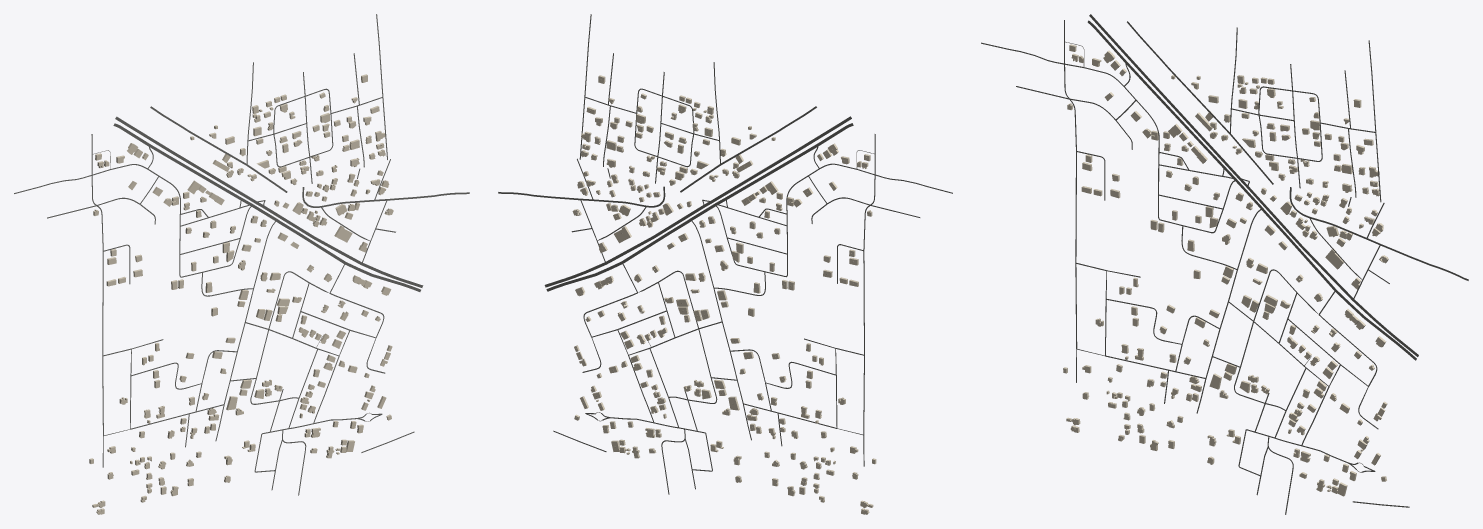
The model's file is irbid_3589_3252.glb.
3 renders of one model, left to right at view 1: azimuth 30°, elevation 25°; view 2: azimuth 150°, elevation 25°; view 3: azimuth 330°, elevation 25°, orthographic. The views are drawn at different scales.
Parts seen in each view (by area): view 1: Road .053, Road .052, Road .028; view 2: Road .053, Road .052, Road .028; view 3: Road .053, Road .052.
Boxes of the visible parts, x1,y1,x2,y2 form: Road .053: [115, 116, 423, 287]; Road .052: [113, 123, 420, 291]; Road .028: [91, 134, 103, 435]; Road .053: [544, 116, 851, 287]; Road .052: [546, 123, 853, 291]; Road .028: [863, 134, 875, 434]; Road .053: [1089, 14, 1418, 356]; Road .052: [1087, 20, 1416, 360].
Bounding box in the file's own units: 1431 × 1387 × 8.7.
